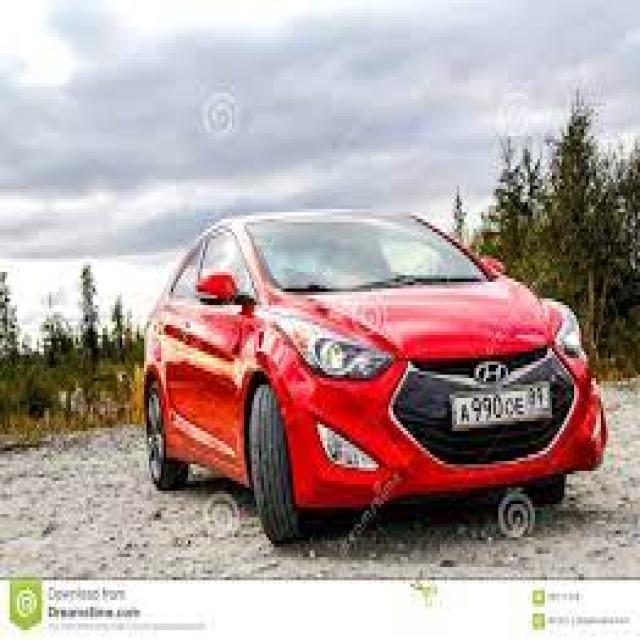car: (139, 213, 611, 527)
